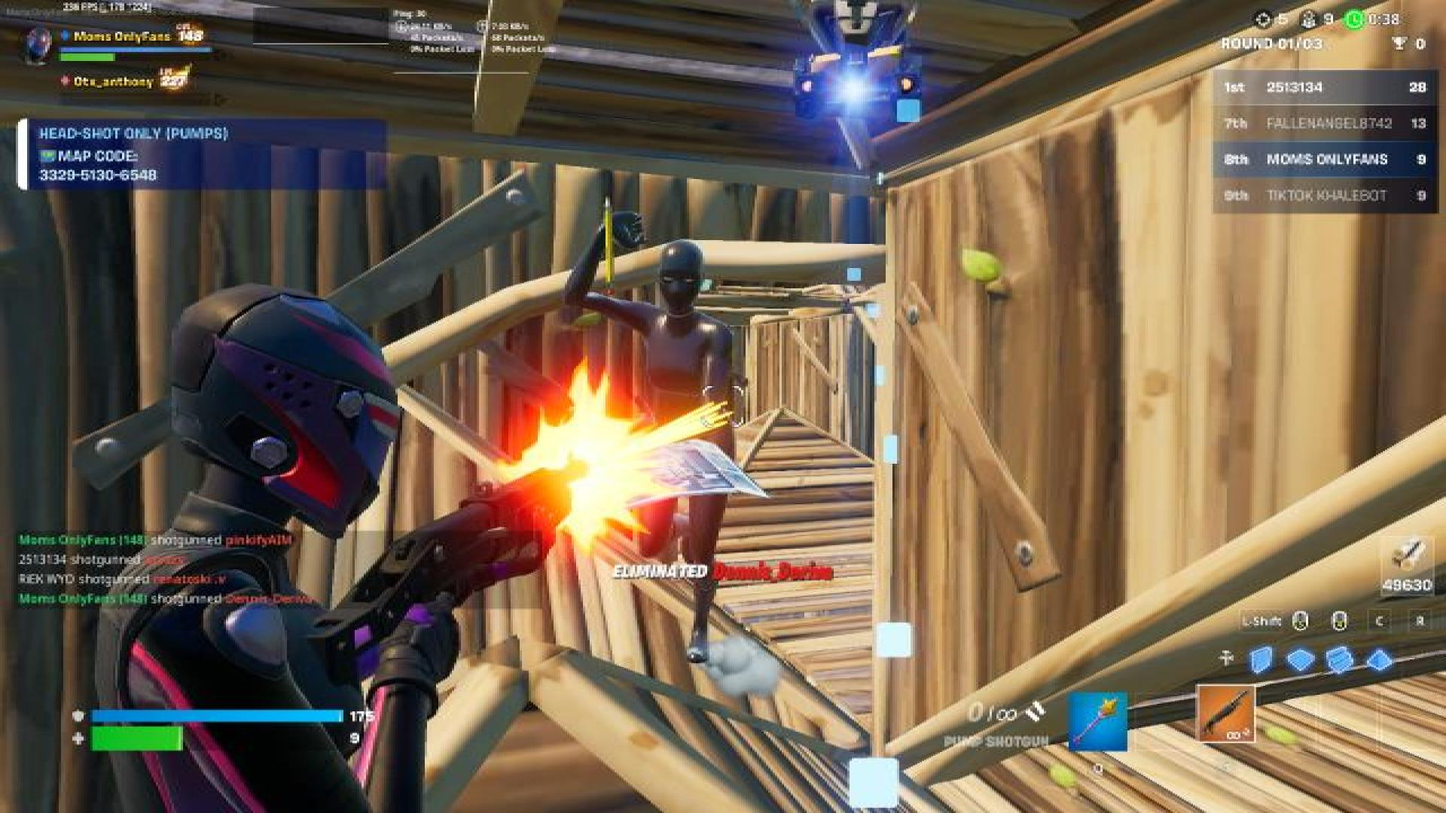player: (559, 206, 792, 674)
